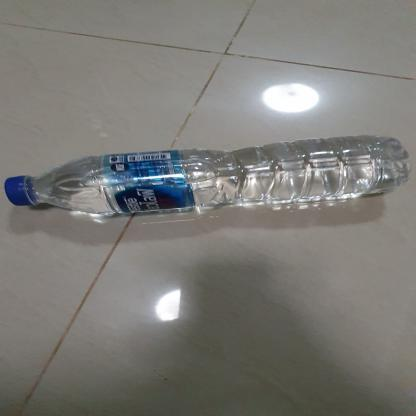plastic: (4, 138, 410, 214)
